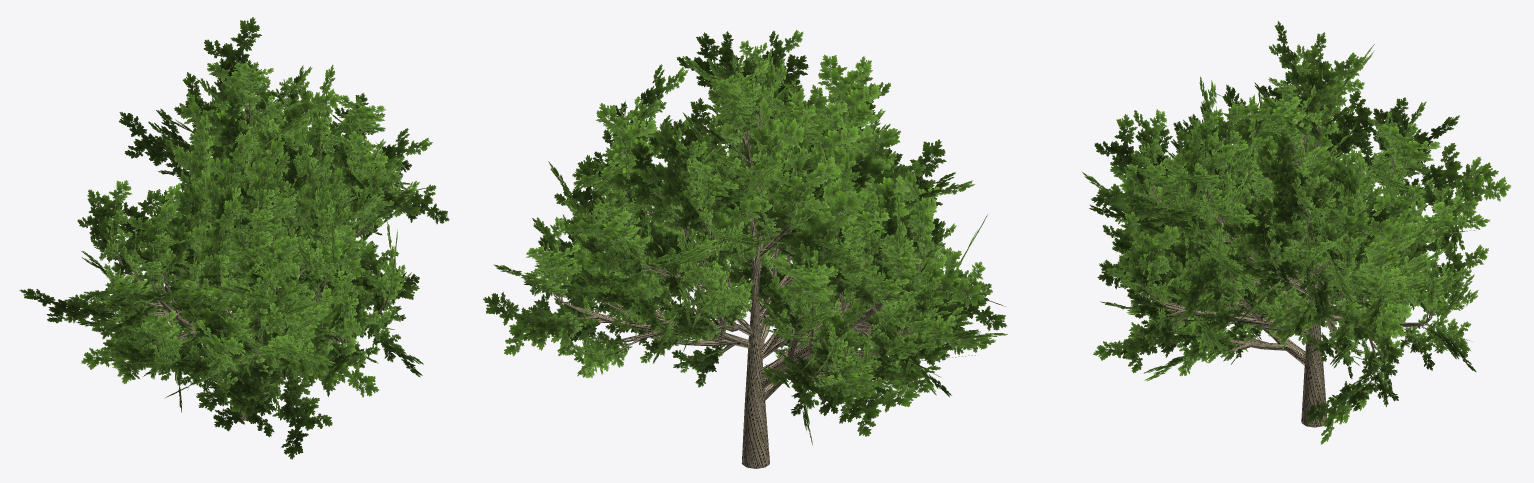
The model's file is tree_shade_oak.glb.
3 views of the same model, side by side, from view 1: azimuth 30°, elevation 25°; view 2: azimuth 150°, elevation 25°; view 3: azimuth 270°, elevation 25° (orthographic). The views are drawn at different scales.
Visible parts, largest first — view 1: LOD1_leaves, LOD0_leaves, LOD1_trunk, LOD0_trunk; view 2: LOD1_leaves, LOD0_leaves, LOD0_trunk, LOD1_trunk; view 3: LOD1_leaves, LOD0_leaves, LOD0_trunk, LOD1_trunk.
Part boxes in pixels (x1,y1,x2,y2): LOD1_leaves: (19,17,449,459); LOD0_leaves: (64,60,420,422); LOD1_trunk: (116,93,395,405); LOD0_trunk: (116,101,399,420); LOD1_leaves: (483,29,1007,445); LOD0_leaves: (516,53,988,415); LOD0_trunk: (554,86,921,468); LOD1_trunk: (558,84,921,467); LOD1_leaves: (1082,21,1511,444); LOD0_leaves: (1114,50,1481,414); LOD0_trunk: (1145,92,1433,427); LOD1_trunk: (1145,121,1432,421).
Size of the model in its own units: 16.67 by 14.55 by 15.32.
2 materials, 2 textured.
